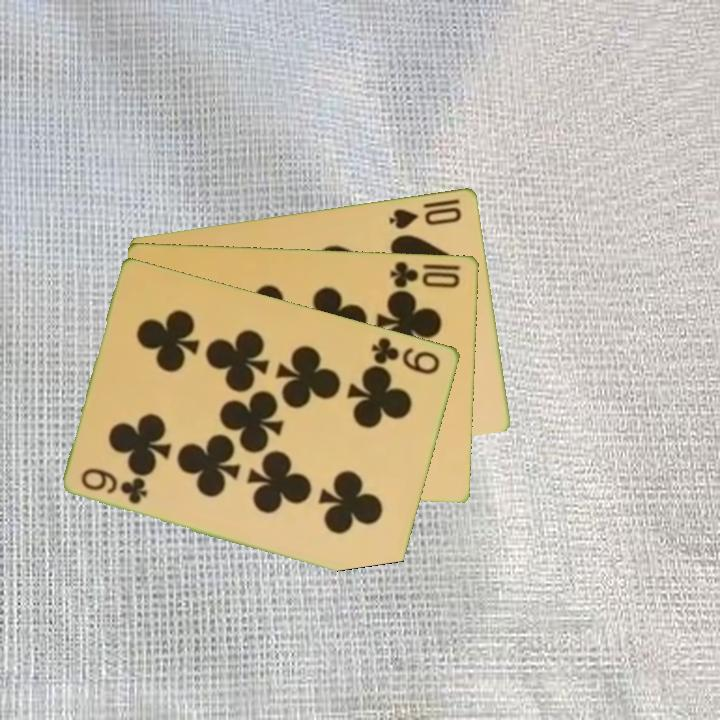10c: (387, 257, 463, 291)
10s: (385, 194, 465, 232)
9c: (368, 333, 444, 377), (78, 464, 152, 507)
